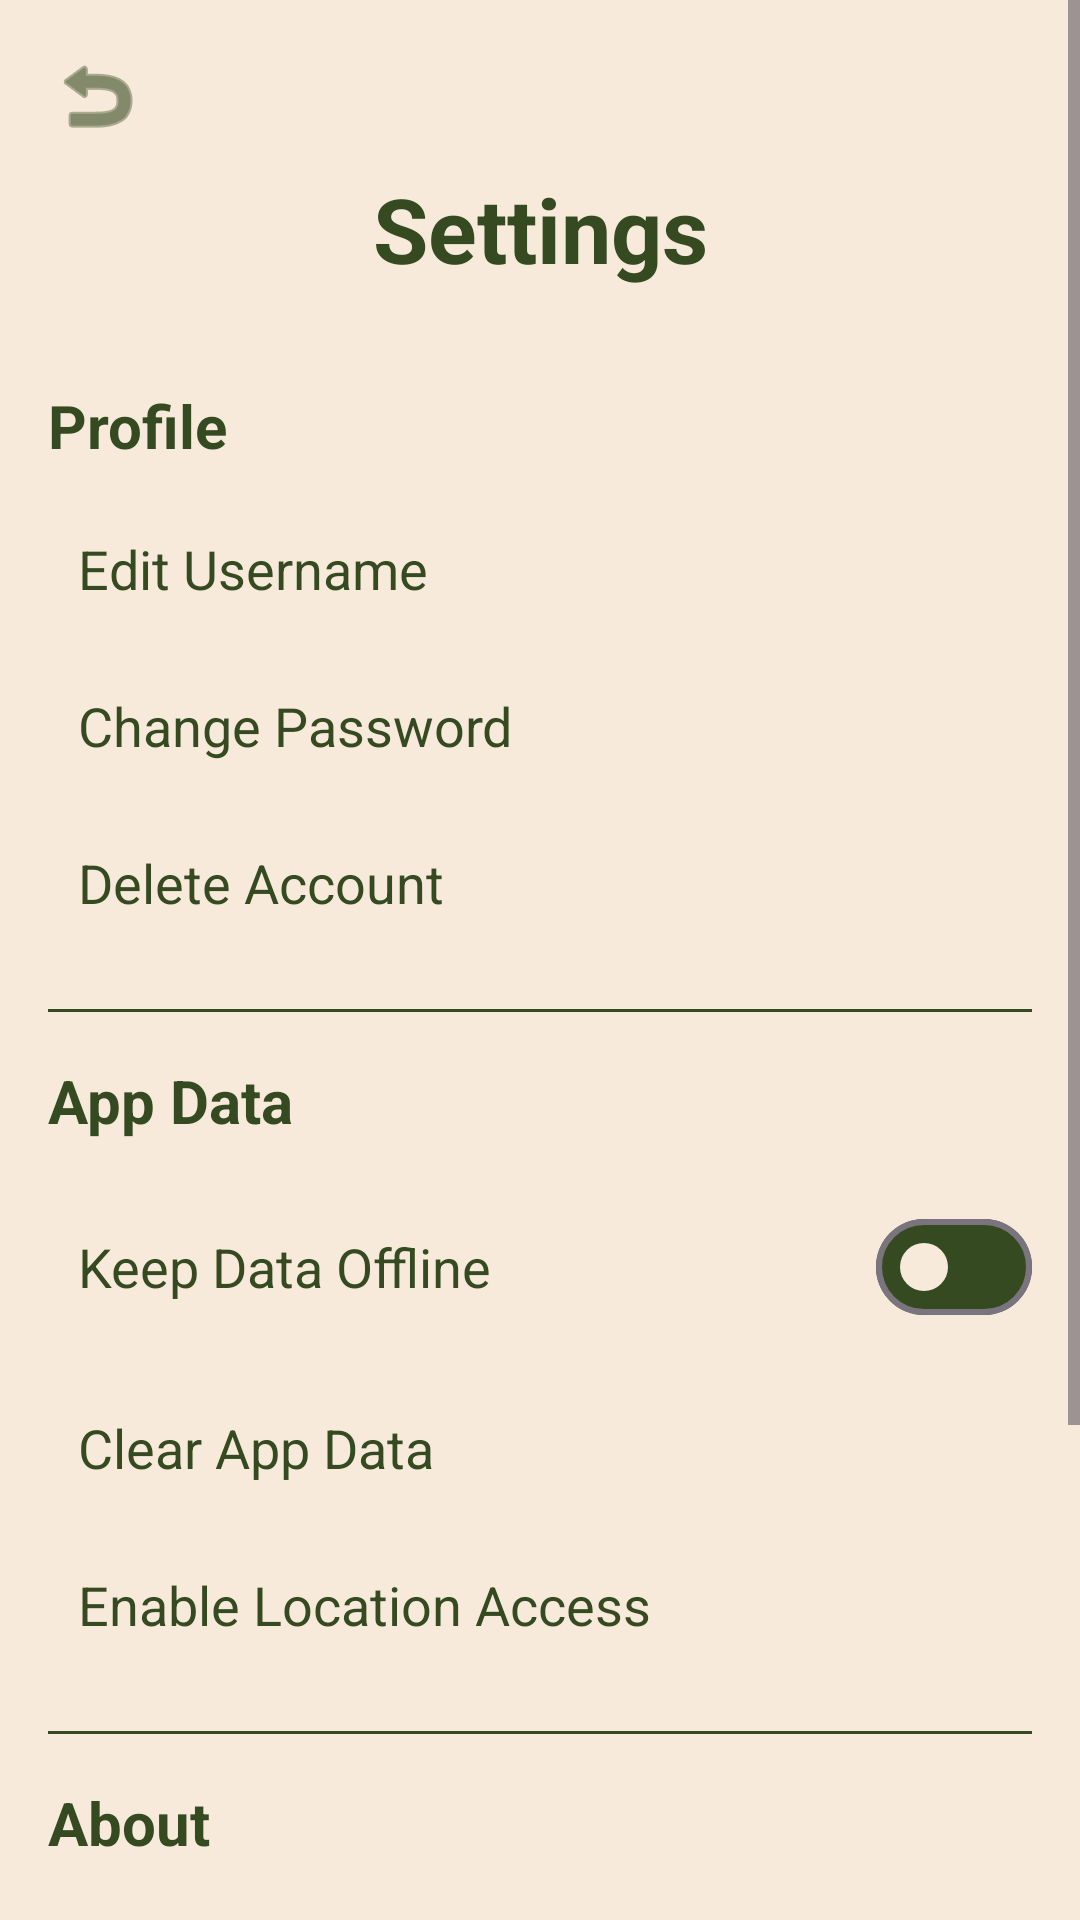

Point at icon controls on the screen. Image size 1080x1920, points as (x=x, y=y).
Back: (x=98, y=96)
